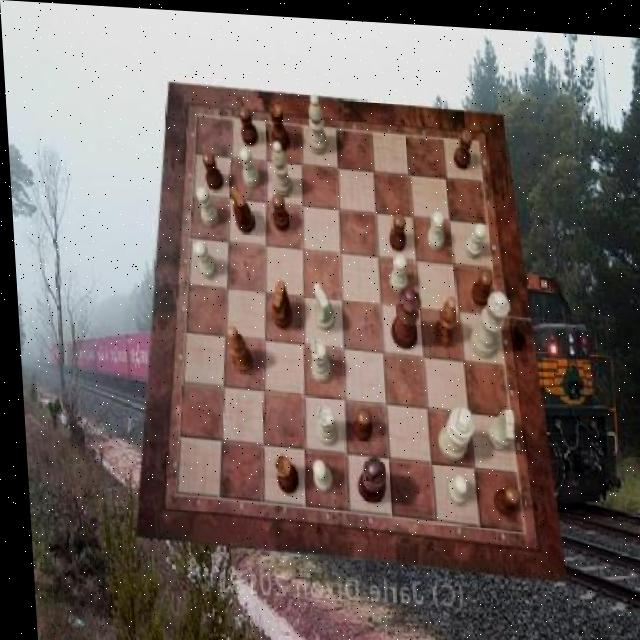bishop: (428, 290, 455, 342), (222, 324, 249, 371)
black-bishop: (350, 452, 382, 499)
black-king: (228, 182, 253, 231), (266, 278, 289, 328)
black-knight: (465, 263, 490, 301), (451, 124, 473, 165), (487, 479, 515, 511), (199, 149, 221, 188), (238, 103, 257, 144), (384, 208, 403, 248), (268, 189, 287, 228), (347, 403, 367, 438)
black-pawn: (384, 282, 418, 346)
black-queen: (268, 97, 288, 149), (268, 452, 293, 493)
black-rook: (306, 89, 328, 152), (269, 137, 291, 194)
white-bishop: (431, 401, 471, 458)
white-king: (481, 401, 510, 445), (309, 280, 332, 329)
white-knight: (189, 238, 214, 277), (460, 217, 485, 254), (194, 185, 217, 225), (385, 248, 405, 288), (423, 207, 443, 246), (238, 145, 257, 186), (441, 469, 464, 501), (306, 455, 327, 488)
white-pawn: (462, 284, 508, 354)
white-queen: (309, 401, 334, 442), (304, 335, 326, 380)
